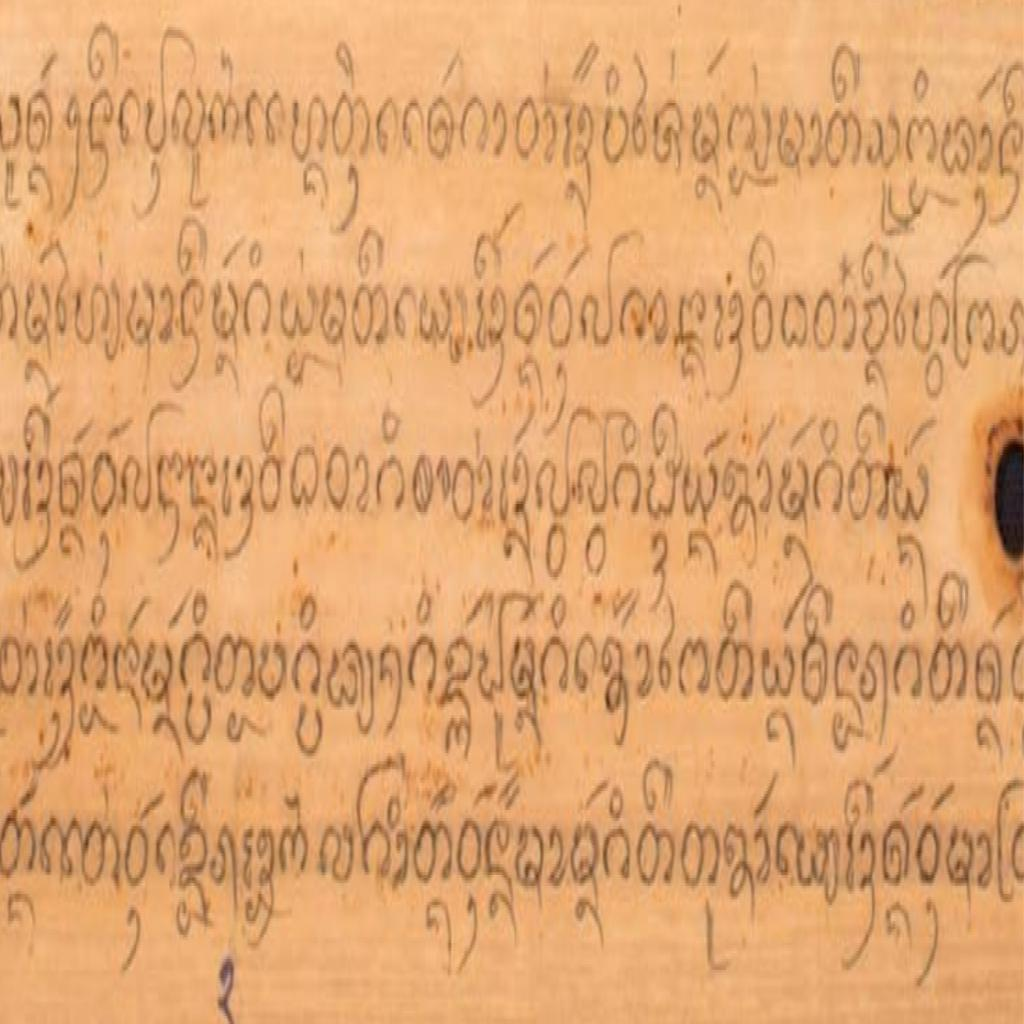LN022: (289, 438, 322, 517)
LN026: (645, 456, 682, 529)
LN031: (776, 452, 813, 533)
LN035: (325, 438, 353, 520)
